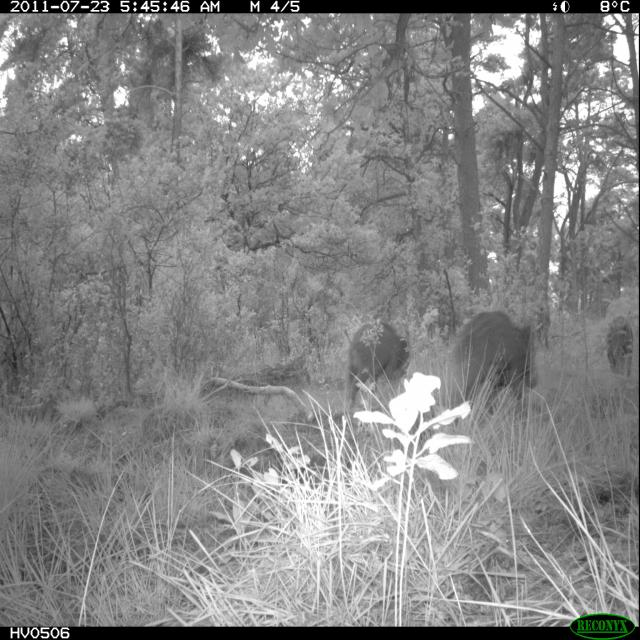boar: (434, 284, 550, 426), (336, 303, 415, 408), (594, 287, 640, 385)
